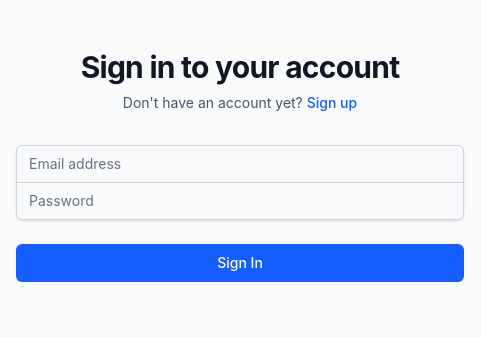
Login › handles string errors during login
Type "a@b.com" into the field with placeholder "Email address" at (240,164), box x1=16 y1=144 x2=464 y2=182
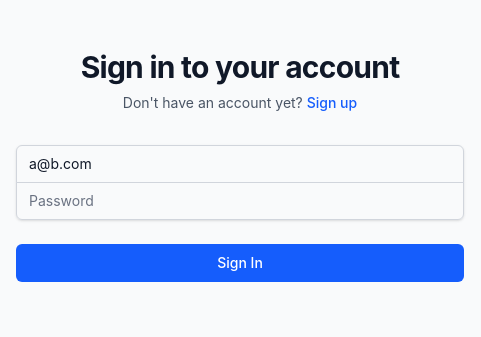
Type "pass" into the password field with placeholder "Password" at (240,200), box x1=16 y1=182 x2=464 y2=220
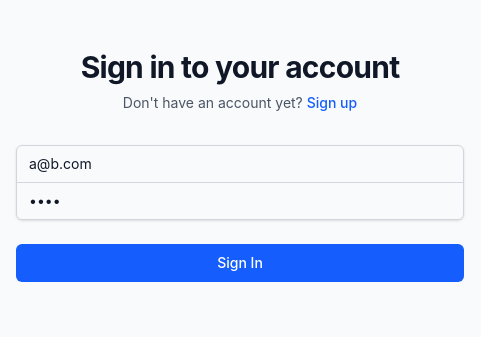
Click the button "Sign In" at (240,262), box x1=16 y1=244 x2=464 y2=282
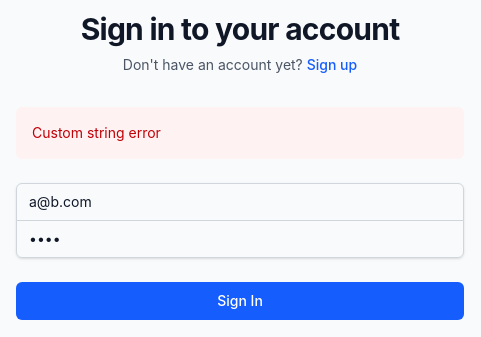
Expected: the text "Custom string error" is shown, x1=32 y1=124 x2=161 y2=140
